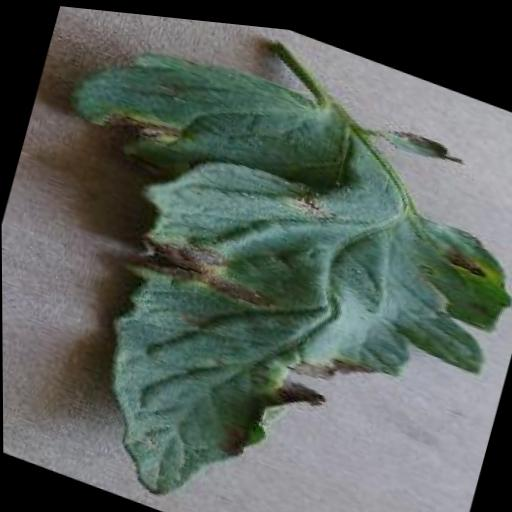Early Blight: (0, 5, 512, 512)
